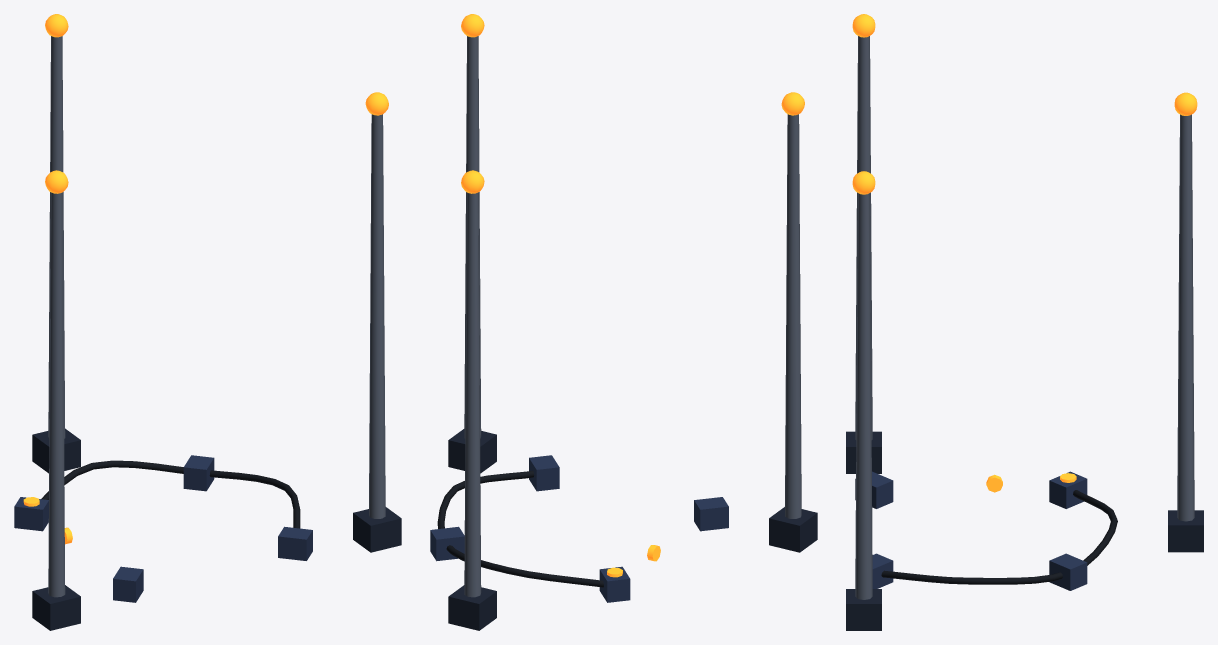
Rendered from tower_overclock_network_s4.glb.
The picture shows the model from 3 angles, left to right: view 1: azimuth 30°, elevation 25°; view 2: azimuth 150°, elevation 25°; view 3: azimuth 270°, elevation 25°; orthographic projection.
Visible parts, largest first — view 1: overclock_antenna1, overclock_antenna2, overclock_antenna0, overclock_relay_cable, overclock_antenna_foot1, overclock_antenna_foot2, overclock_antenna_foot0, overclock_relay2, overclock_relay3, overclock_relay1, overclock_relay0; view 2: overclock_antenna2, overclock_antenna0, overclock_antenna1, overclock_relay_cable, overclock_antenna_foot0, overclock_antenna_foot2, overclock_antenna_foot1, overclock_relay3, overclock_relay2, overclock_relay1, overclock_relay0; view 3: overclock_antenna1, overclock_antenna0, overclock_antenna2, overclock_relay_cable, overclock_antenna_foot0, overclock_antenna_foot1, overclock_relay1, overclock_relay0, overclock_antenna_foot2, overclock_relay3, overclock_relay2.
Boxes of the visible parts, bbox=[...] form: overclock_antenna1: bbox=[369, 114, 385, 518]; overclock_antenna2: bbox=[48, 192, 65, 597]; overclock_antenna0: bbox=[48, 36, 65, 438]; overclock_relay_cable: bbox=[41, 460, 300, 528]; overclock_antenna_foot1: bbox=[353, 507, 401, 552]; overclock_antenna_foot2: bbox=[32, 585, 80, 630]; overclock_antenna_foot0: bbox=[32, 428, 80, 473]; overclock_relay2: bbox=[278, 526, 312, 560]; overclock_relay3: bbox=[113, 566, 143, 602]; overclock_relay1: bbox=[183, 455, 214, 491]; overclock_relay0: bbox=[14, 497, 48, 531]; overclock_antenna2: bbox=[785, 114, 801, 518]; overclock_antenna0: bbox=[464, 192, 481, 597]; overclock_antenna1: bbox=[464, 36, 481, 438]; overclock_relay_cable: bbox=[437, 470, 603, 587]; overclock_antenna_foot0: bbox=[448, 585, 496, 630]; overclock_antenna_foot2: bbox=[769, 507, 817, 552]; overclock_antenna_foot1: bbox=[448, 429, 496, 473]; overclock_relay3: bbox=[694, 497, 728, 531]; overclock_relay2: bbox=[529, 455, 559, 491]; overclock_relay1: bbox=[430, 526, 464, 561]; overclock_relay0: bbox=[599, 566, 630, 602]; overclock_antenna1: bbox=[855, 193, 872, 599]; overclock_antenna0: bbox=[1177, 114, 1194, 521]; overclock_antenna2: bbox=[855, 36, 872, 439]; overclock_relay_cable: bbox=[881, 490, 1117, 584]; overclock_antenna_foot0: bbox=[1168, 510, 1203, 552]; overclock_antenna_foot1: bbox=[846, 589, 881, 630]; overclock_relay1: bbox=[1049, 553, 1087, 590]; overclock_relay0: bbox=[1049, 471, 1087, 508]; overclock_antenna_foot2: bbox=[846, 431, 881, 473]; overclock_relay3: bbox=[855, 471, 893, 508]; overclock_relay2: bbox=[872, 553, 893, 588].
Bounding box in the file's own units: 1.37 × 1.67 × 1.2.
